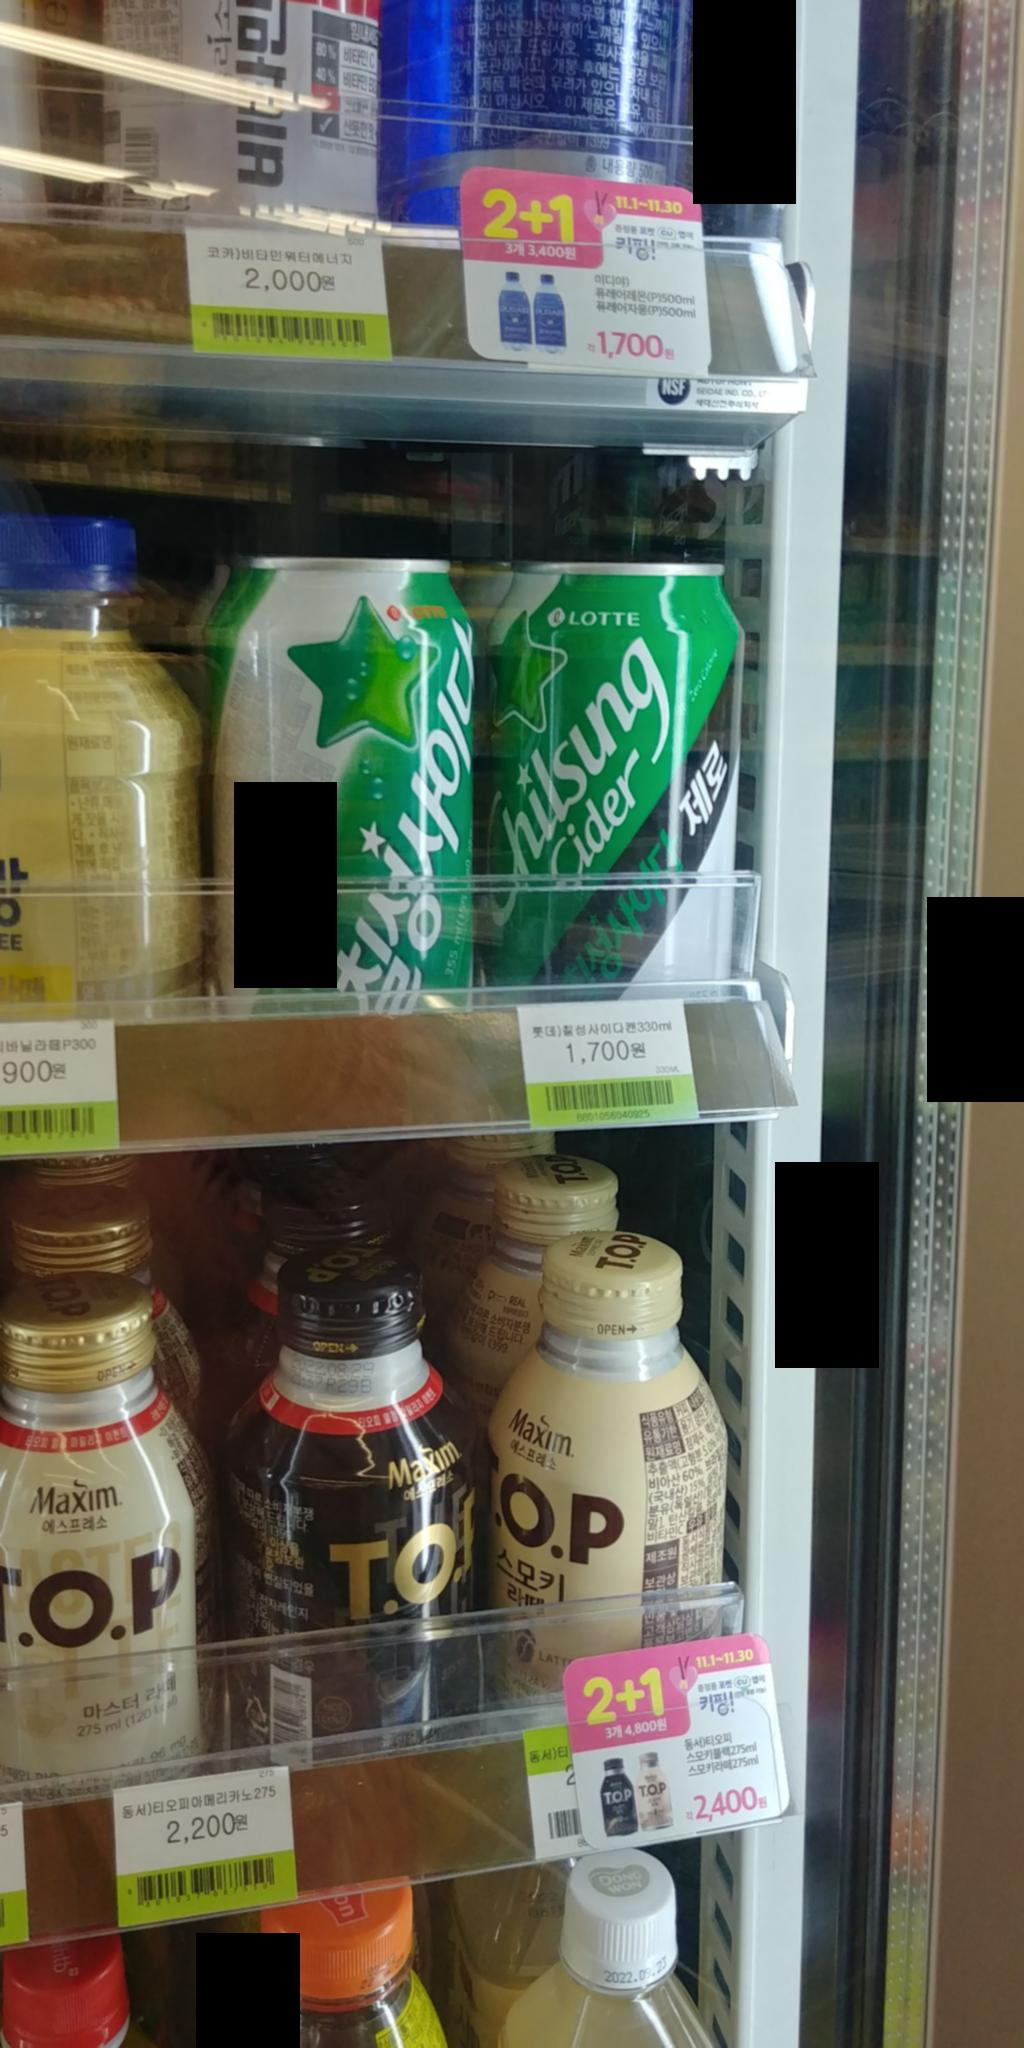TOP_black: (236, 1237, 498, 1735)
chilsungcider: (197, 541, 482, 1023)
